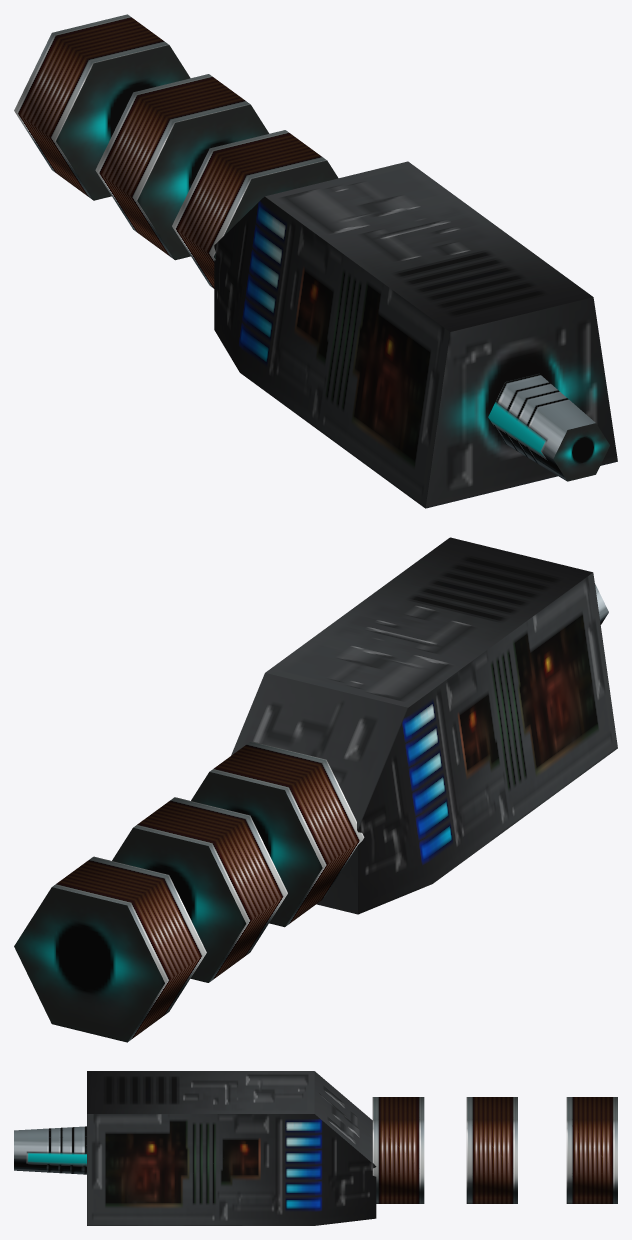
The model's file is acs42b.obj.
The picture shows the model from 3 angles, top to bottom: view 1: azimuth 30°, elevation 25°; view 2: azimuth 150°, elevation 25°; view 3: azimuth 270°, elevation 25°; orthographic projection. The views are drawn at different scales.
Parts seen in each view (by area): view 1: frm-wepbas1, frm-wepbar4, frm-wepbar3, frm-wepbar2, frm-wepbar1; view 2: frm-wepbas1, frm-wepbar4, frm-wepbar3, frm-wepbar2; view 3: frm-wepbas1, frm-wepbar4, frm-wepbar3, frm-wepbar2, frm-wepbar1.
Boxes of the visible parts, box(x1,y1,x2,y2) form: frm-wepbas1: box(214, 161, 617, 508); frm-wepbar4: box(14, 14, 190, 200); frm-wepbar3: box(95, 74, 269, 260); frm-wepbar2: box(172, 130, 338, 288); frm-wepbar1: box(488, 373, 609, 481); frm-wepbas1: box(231, 537, 617, 914); frm-wepbar4: box(14, 856, 206, 1042); frm-wepbar3: box(112, 797, 287, 982); frm-wepbar2: box(191, 741, 364, 927); frm-wepbas1: box(87, 1071, 376, 1225); frm-wepbar4: box(566, 1097, 617, 1203); frm-wepbar3: box(466, 1097, 517, 1203); frm-wepbar2: box(372, 1097, 424, 1203); frm-wepbar1: box(14, 1126, 86, 1174).
Size of the model in its own units: 0.1557 by 0.1317 by 0.6895.
1 material, 1 textured.
